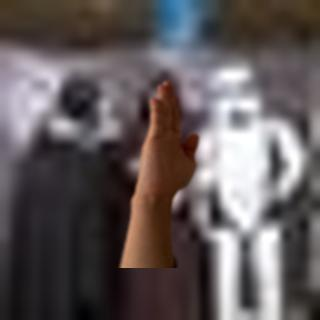RIGHT: (134, 75, 206, 209)
